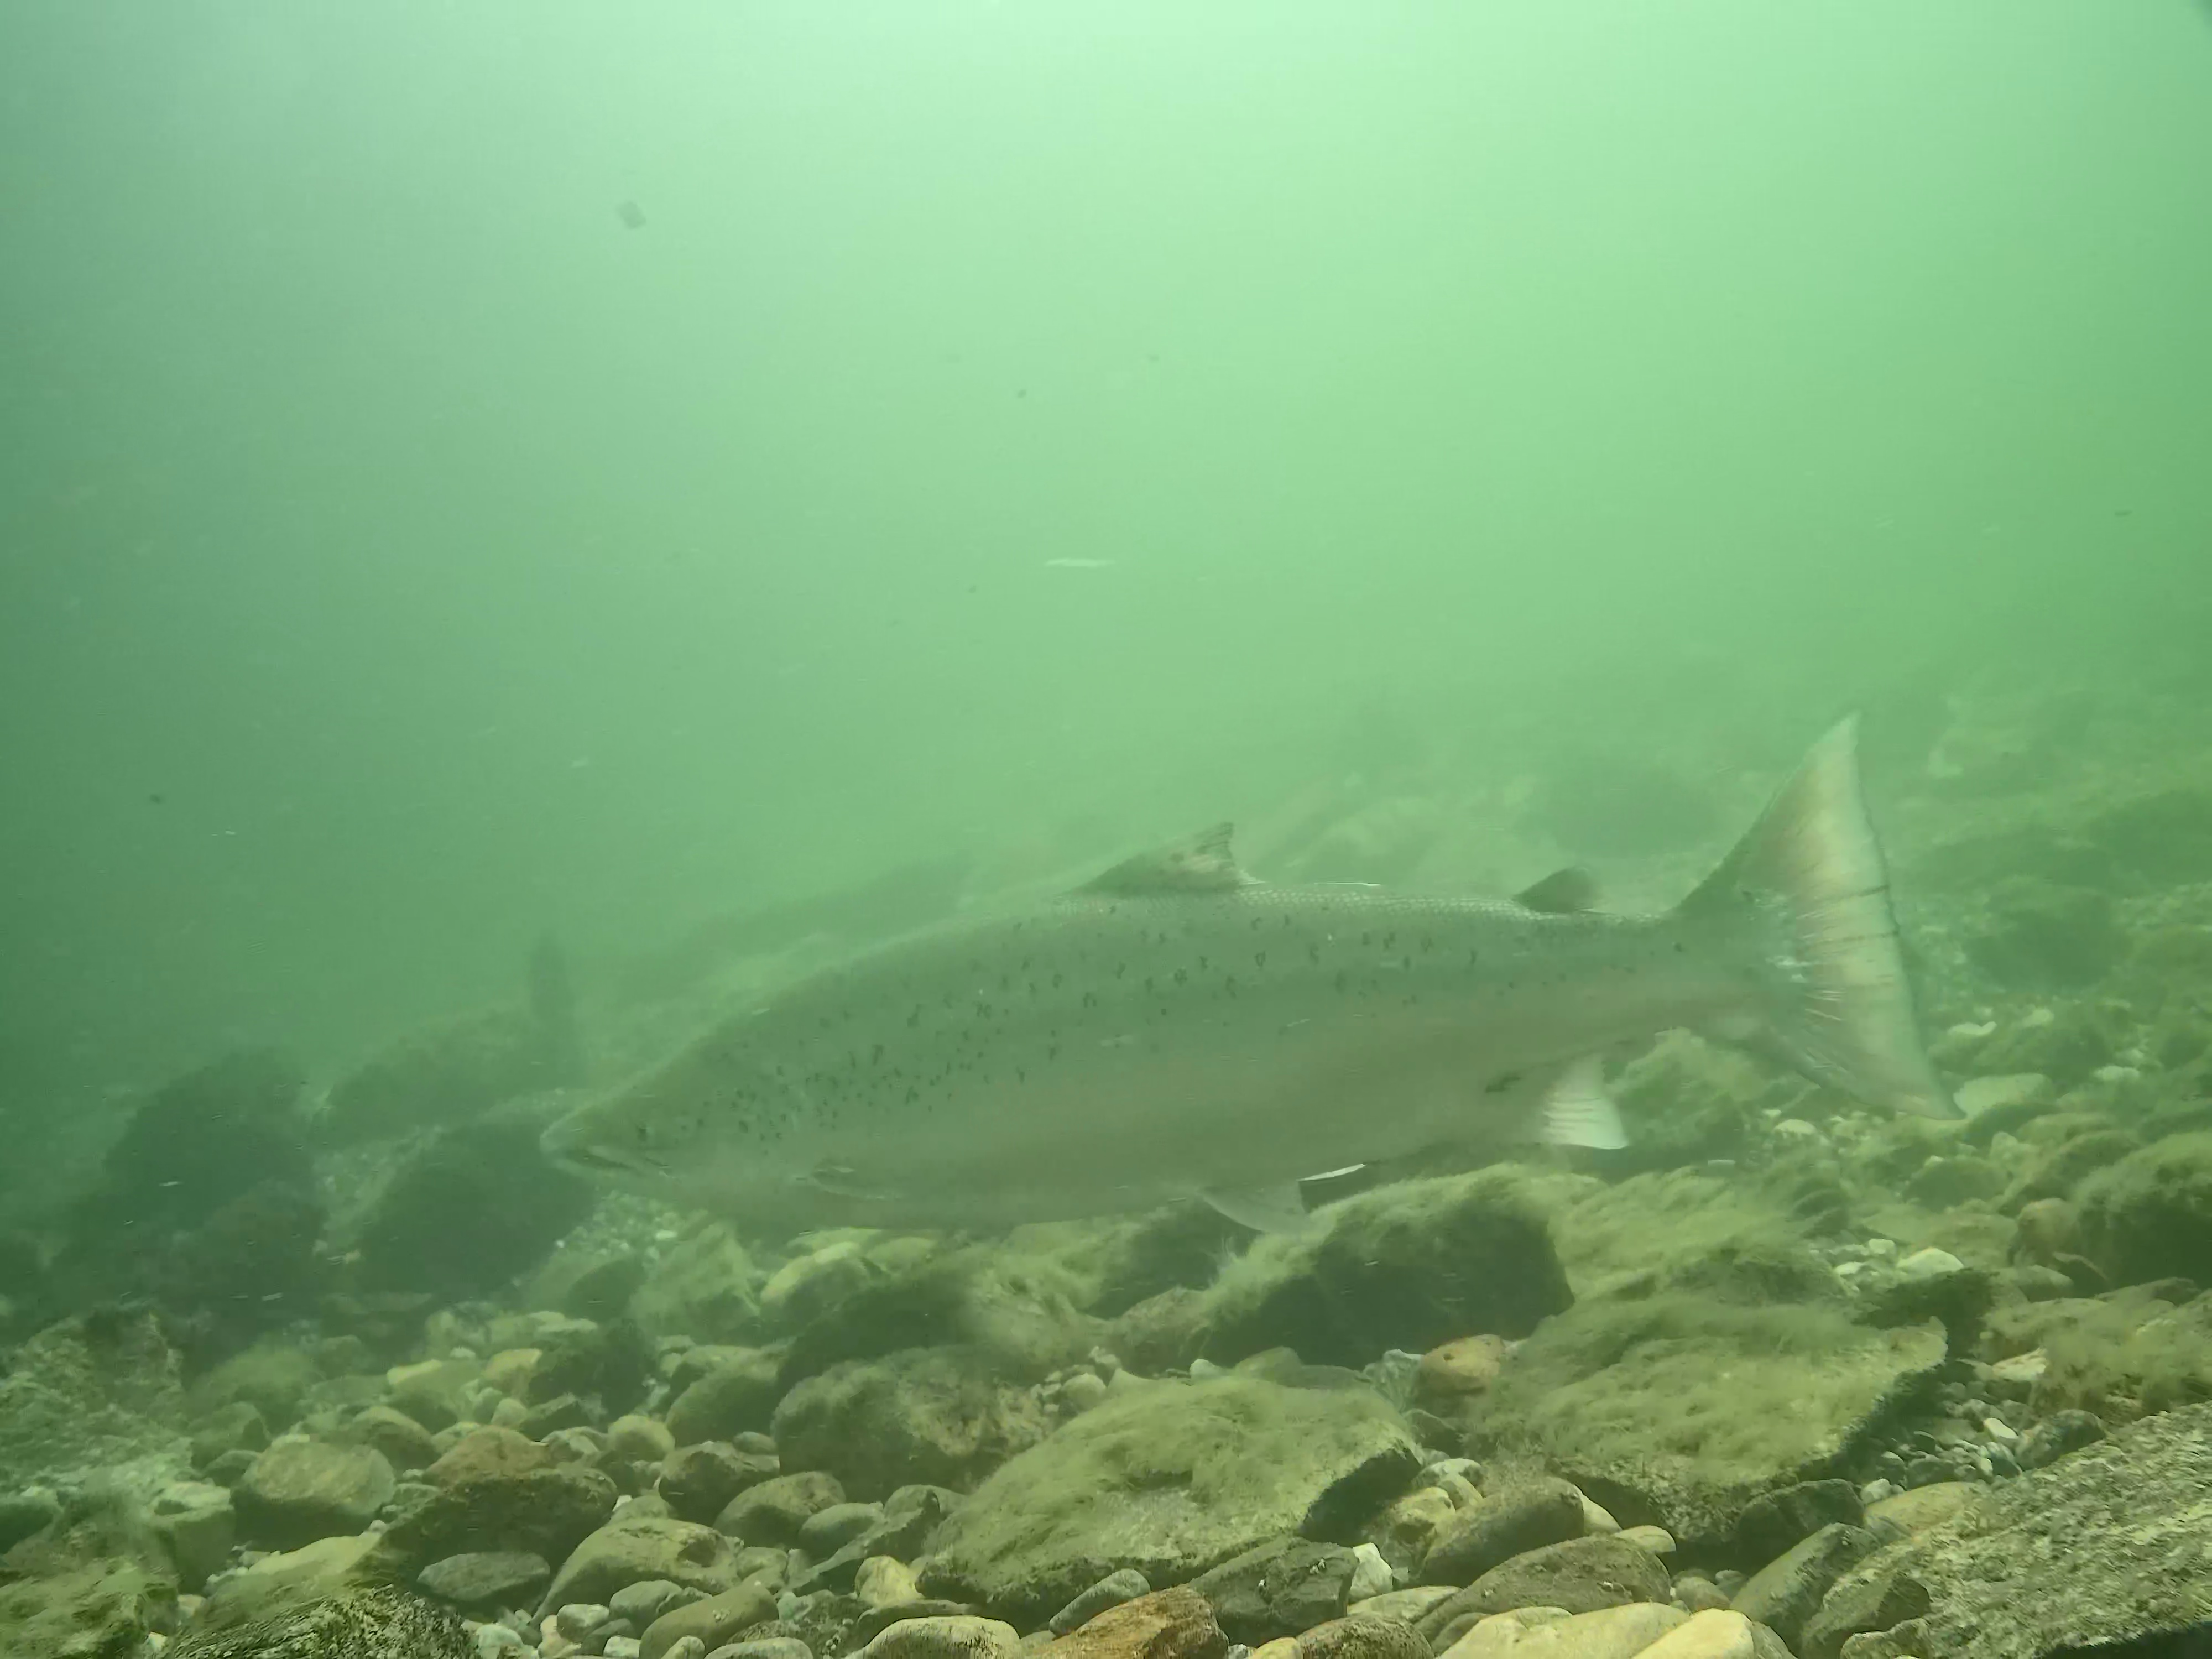salmon: (531, 711, 1975, 1246)
